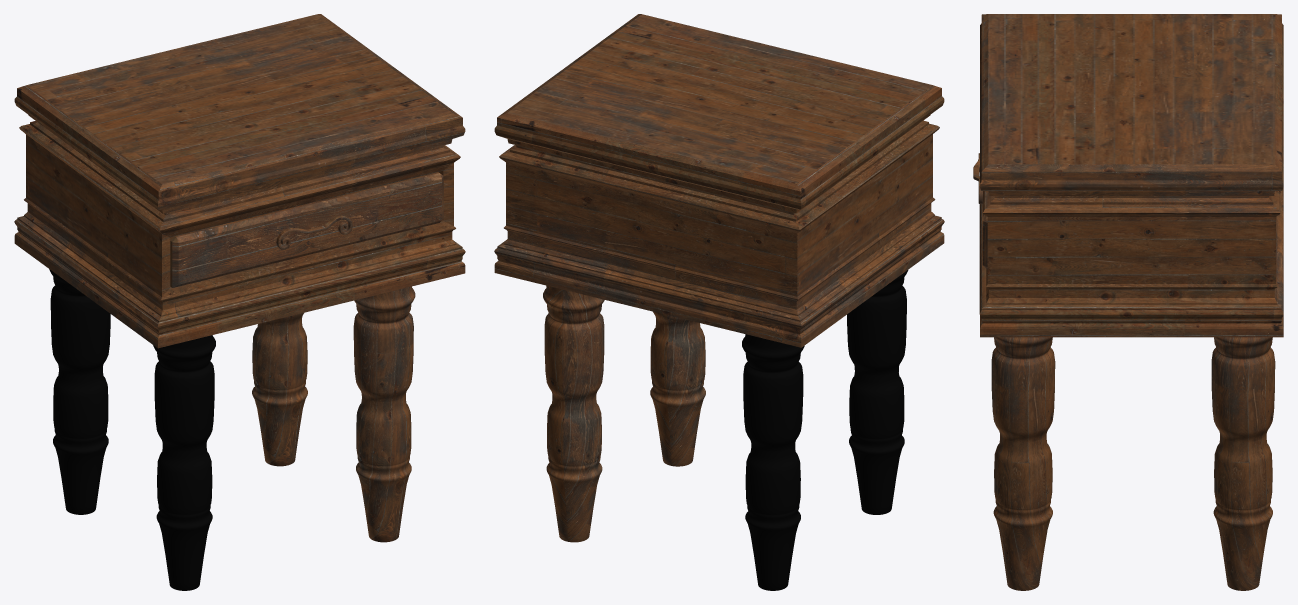
The model's file is FirstSceneRoom1_STable1.fbx.
The picture shows the model from 3 angles, left to right: view 1: azimuth 30°, elevation 25°; view 2: azimuth 150°, elevation 25°; view 3: azimuth 270°, elevation 25°; orthographic projection. The views are drawn at different scales.
Visible parts, largest first — view 1: polySurface1, polySurface2, pCylinder4, pCylinder3, pCylinder1, pCylinder2, sweep2; view 2: polySurface1, pCylinder1, pCylinder2, pCylinder4, pCylinder3; view 3: polySurface1, pCylinder3, pCylinder2.
Part boxes in pixels (x1,y1,x2,y2): polySurface1: (14,14,465,348); polySurface2: (170,172,443,287); pCylinder4: (153,335,215,590); pCylinder3: (353,286,415,542); pCylinder1: (49,269,110,514); pCylinder2: (252,313,307,466); sweep2: (276,215,352,249); polySurface1: (494,14,944,347); pCylinder1: (742,334,804,590); pCylinder2: (543,285,604,542); pCylinder4: (847,270,908,514); pCylinder3: (650,311,705,466); polySurface1: (979,14,1283,337); pCylinder3: (991,337,1055,590); pCylinder2: (1211,337,1275,590).
Bounding box in the file's own units: 9.58 × 12.59 × 7.9.
2 materials, 1 textured.
